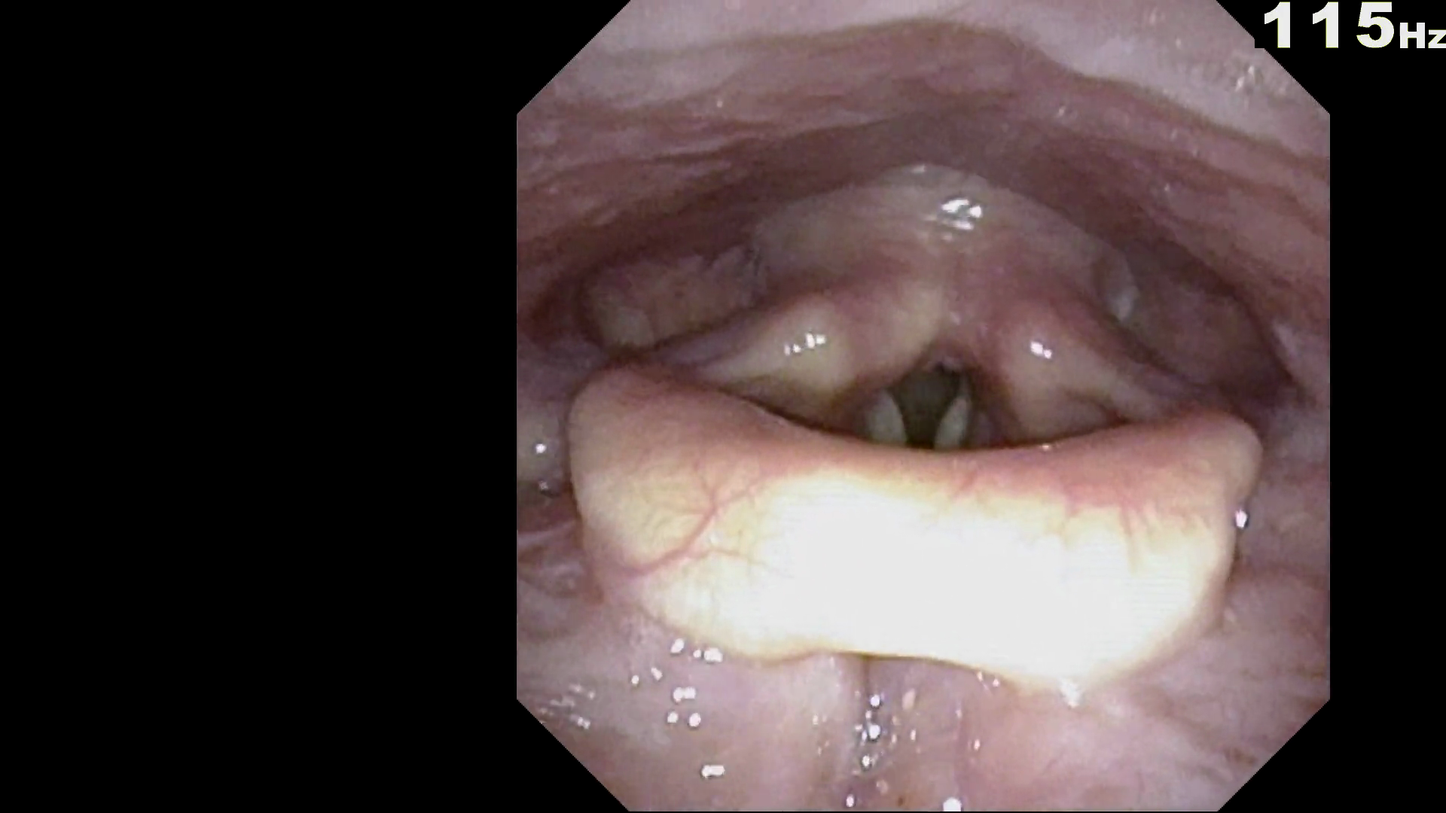epiglottis: (563, 339, 1280, 691)
trachea: (850, 302, 1029, 527)
